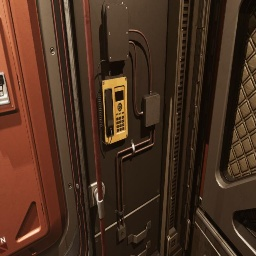EmergencyPhone ,: (97, 60, 128, 145)
